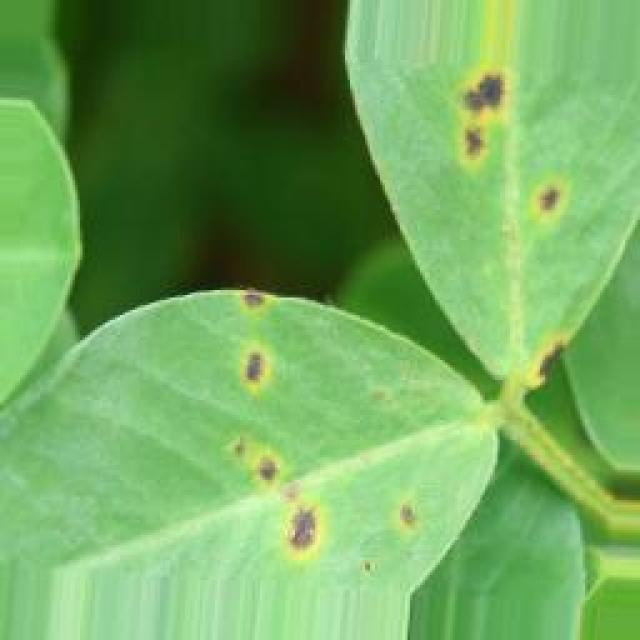Sigatoka: (215, 414, 352, 612), (439, 54, 522, 175), (358, 463, 429, 569), (212, 325, 294, 408), (507, 153, 572, 236), (205, 281, 298, 332)
